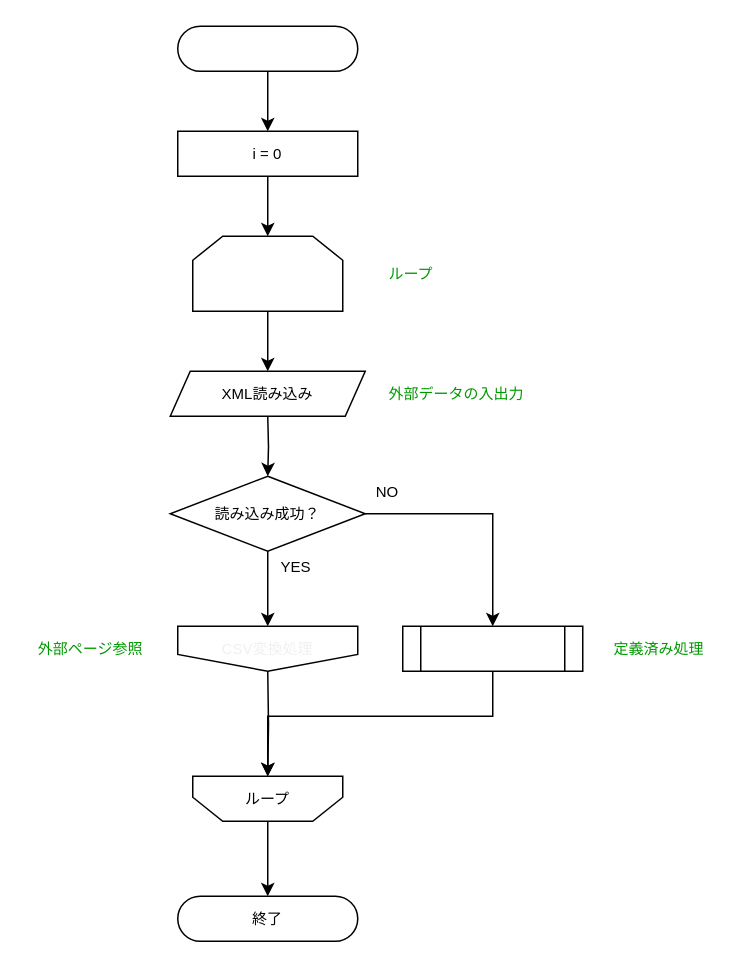
This 741x968 diagram has some shape labels left out. Here are the shapes that lost their labels. From the top down, the centre of each, then its label:
At point (267, 48): "開始".
At point (267, 273): "ループ i <= 10".
At point (492, 648): "例外処理".
